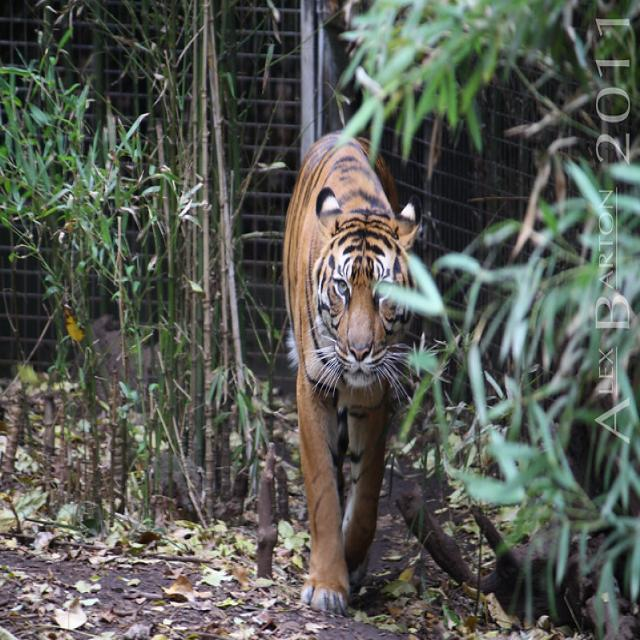Tiger: (279, 125, 426, 611)
